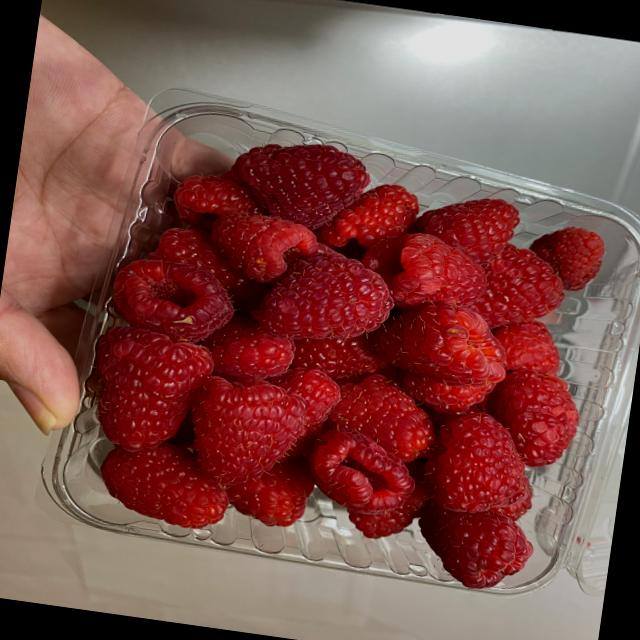raspberries: (86, 117, 614, 590)
